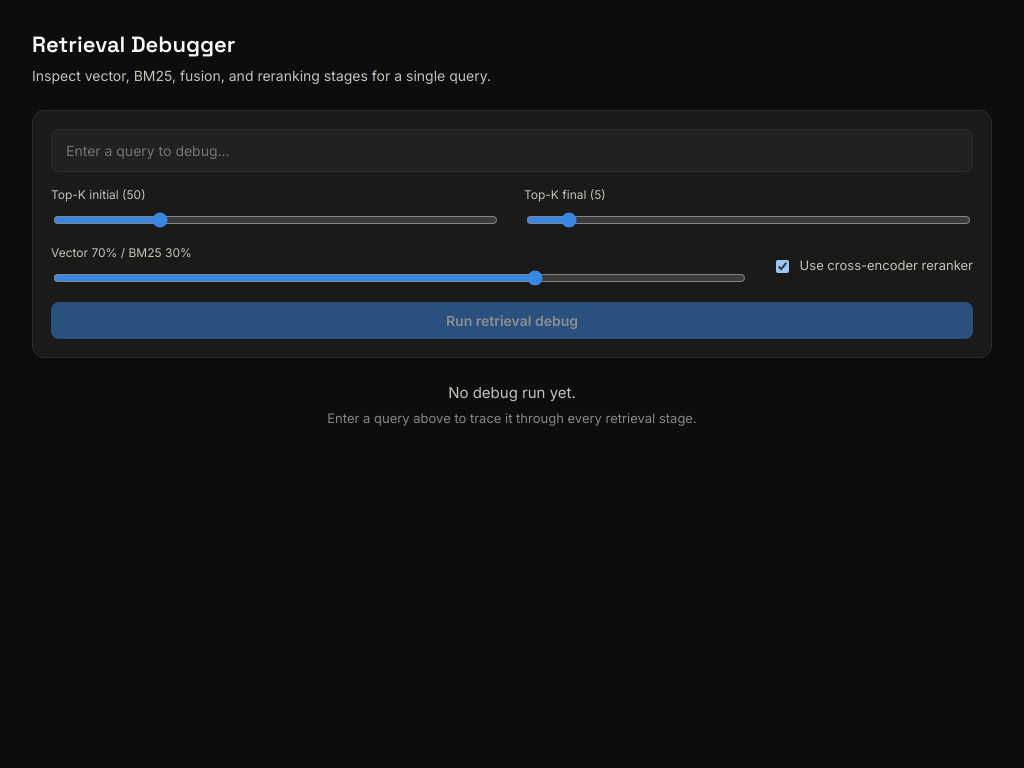
Test: RetrievalDebuggerView › runs a debug search with the current controls and shows reranked results by default
The width and height of the screenshot is (1024, 768).
Type "How many annual leave days?" into the field with placeholder "Enter a query to debug…".
click(512, 150); type("How many annual leave days?")  # box [51,129,973,172]
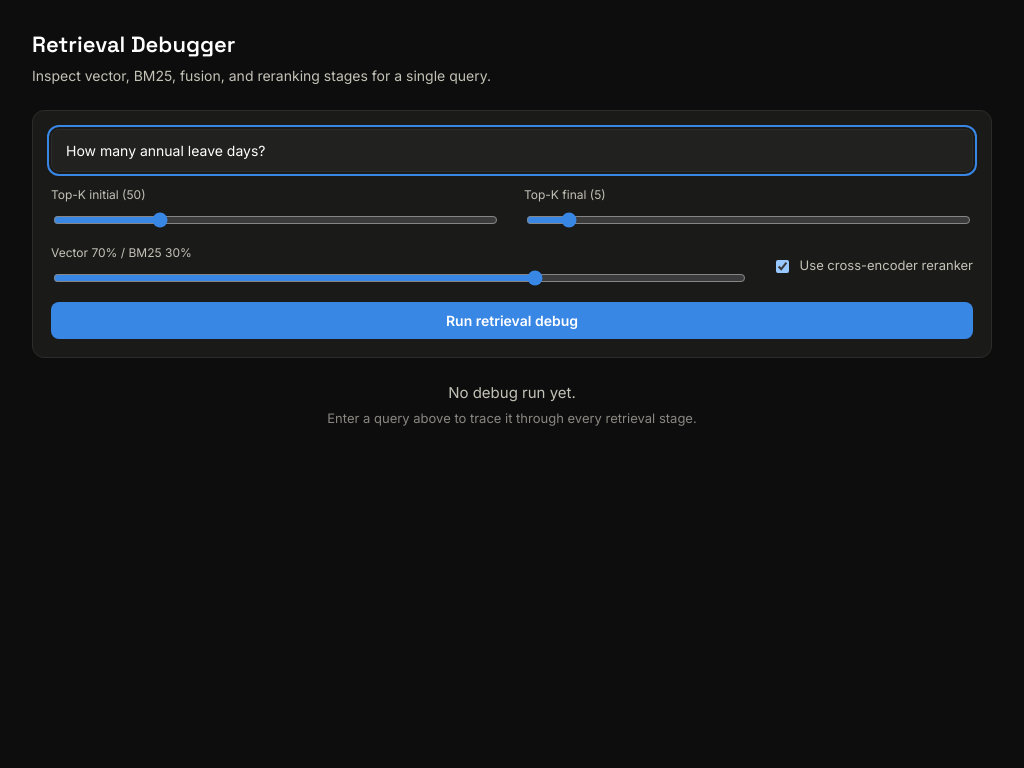
Click the button "Run retrieval debug".
click(512, 320)  # box [51,302,973,339]
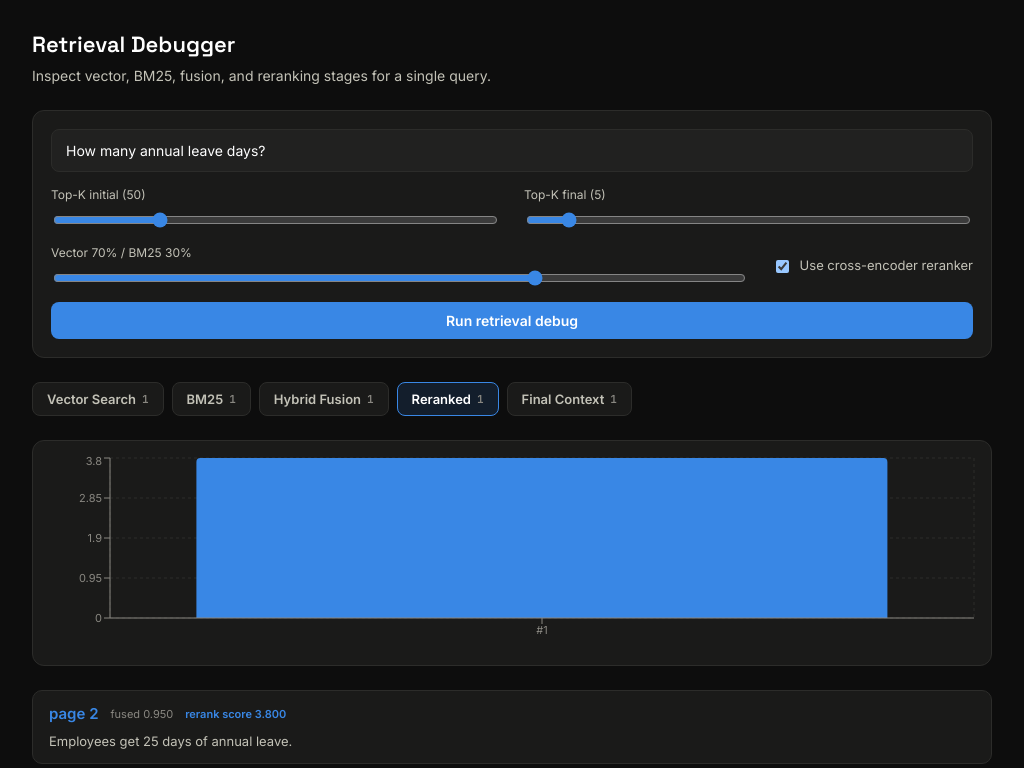
Check: the text "Employees get 25 days of annual leave." is shown, box [49,732,292,748]
